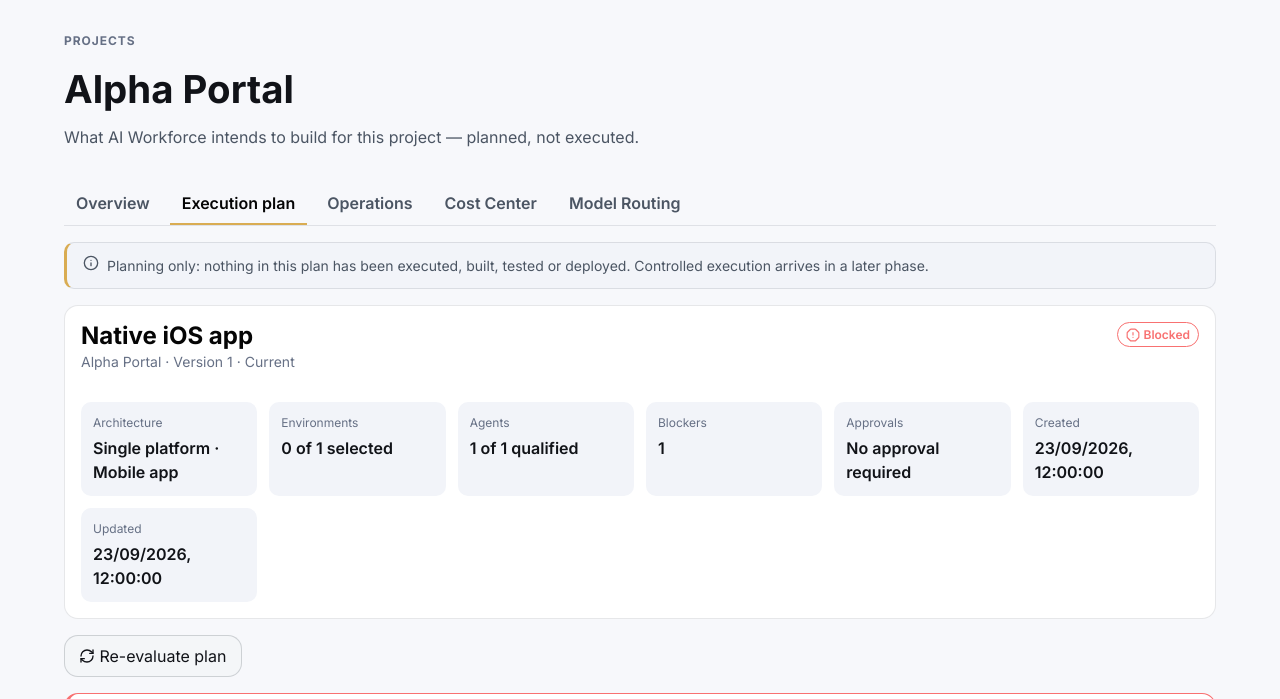
it: Project Detail → Execution Plan › replan: confirms, sends the reviewed version, refetches — nothing executes
The image size is (1280, 699).
Click the button "Re-evaluate plan" at (153, 656), box x1=64 y1=635 x2=242 y2=677
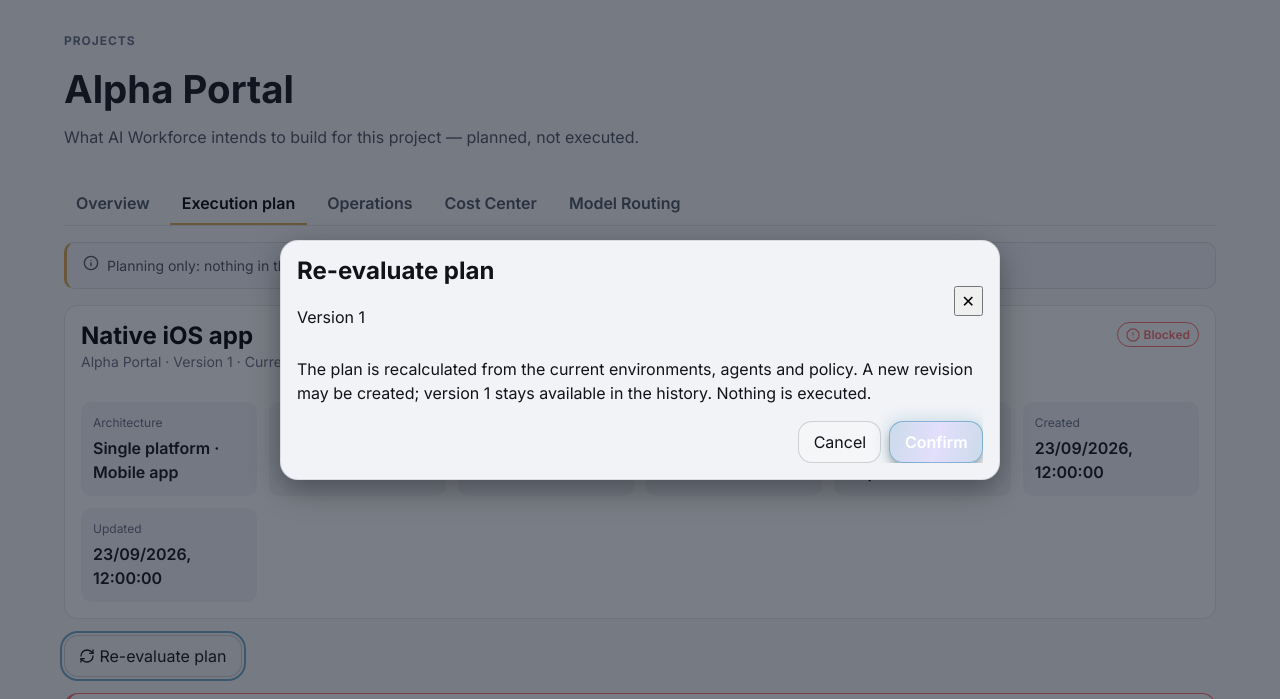
Result: the text "A new revision may be created; version 1 stays available" is shown at x1=297 y1=359 x2=973 y2=403
Click the button "Confirm" at (936, 442), box x1=890 y1=421 x2=983 y2=463
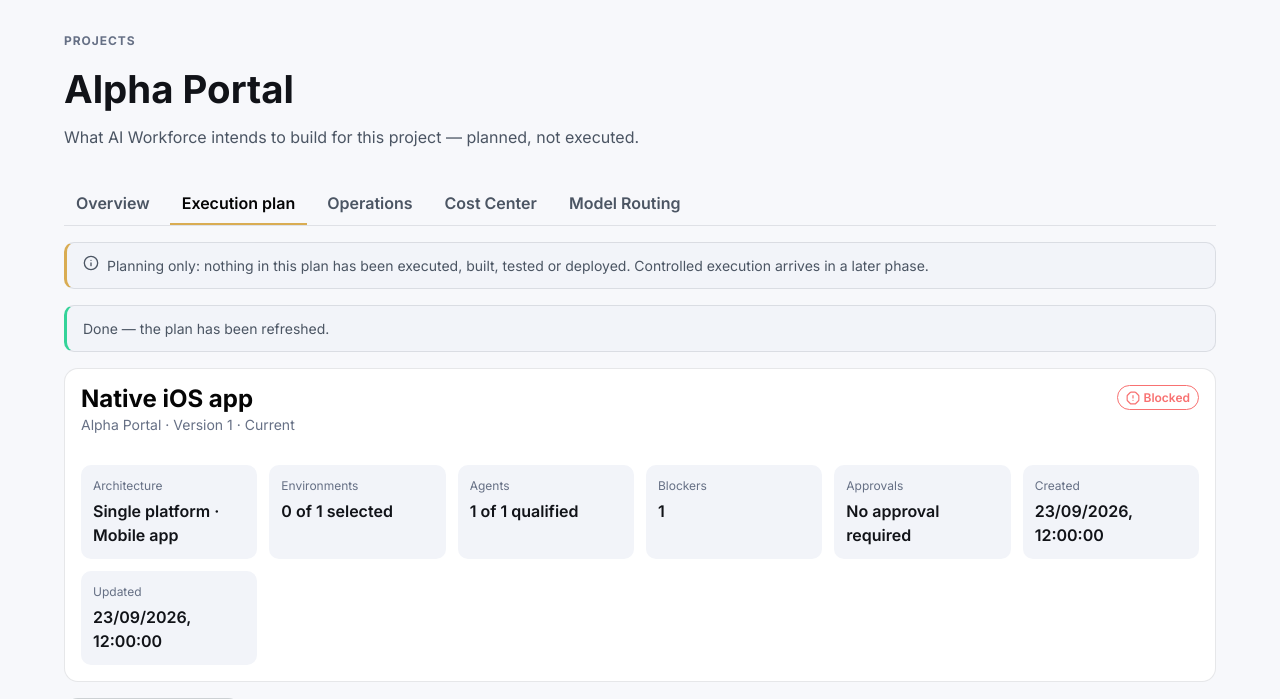
Result: the text "Done — the plan has been refreshed." is shown at x1=64 y1=305 x2=1216 y2=352
